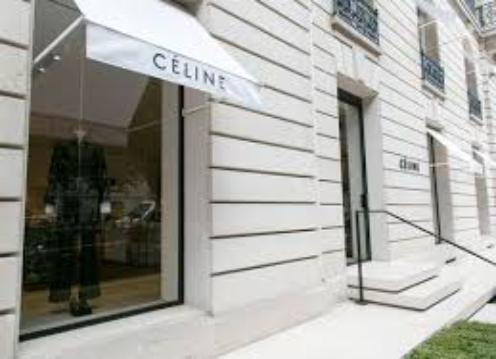CELINE: (141, 48, 237, 92)
